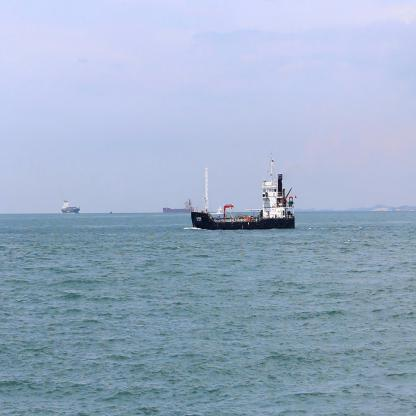Container Ship: (188, 151, 296, 231), (162, 195, 196, 214), (61, 196, 81, 214)
